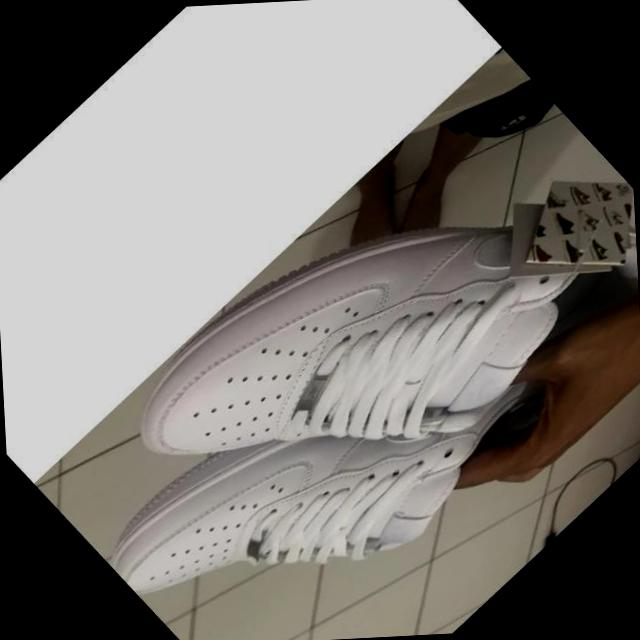nike_original_airforce: (91, 53, 640, 638), (87, 281, 538, 640)
